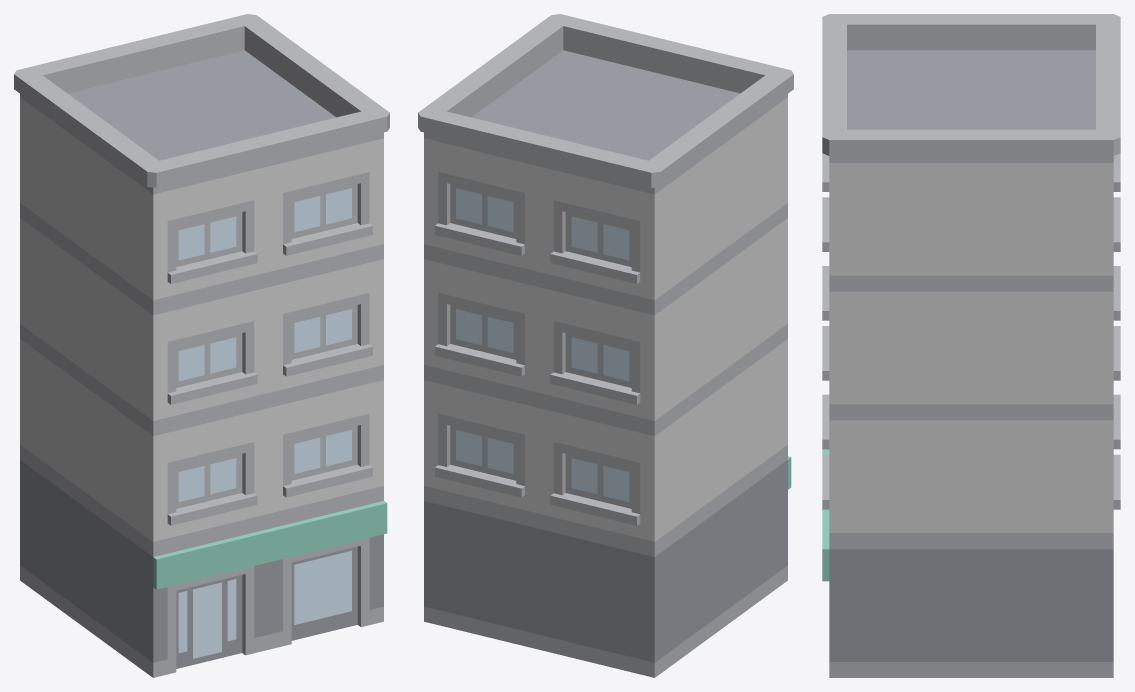
Rendered from large_buildingB.fbx.
3 renders of one model, left to right at view 1: azimuth 30°, elevation 25°; view 2: azimuth 150°, elevation 25°; view 3: azimuth 270°, elevation 25°, orthographic. The views are drawn at different scales.
Visible parts, largest first — view 1: large_buildingB; view 2: large_buildingB; view 3: large_buildingB.
Boxes of the visible parts, bbox=[...] form: large_buildingB: bbox=[14, 14, 389, 677]; large_buildingB: bbox=[418, 14, 793, 677]; large_buildingB: bbox=[822, 14, 1120, 677].
Bounding box in the file's own units: 6.97 × 13.94 × 6.97.
